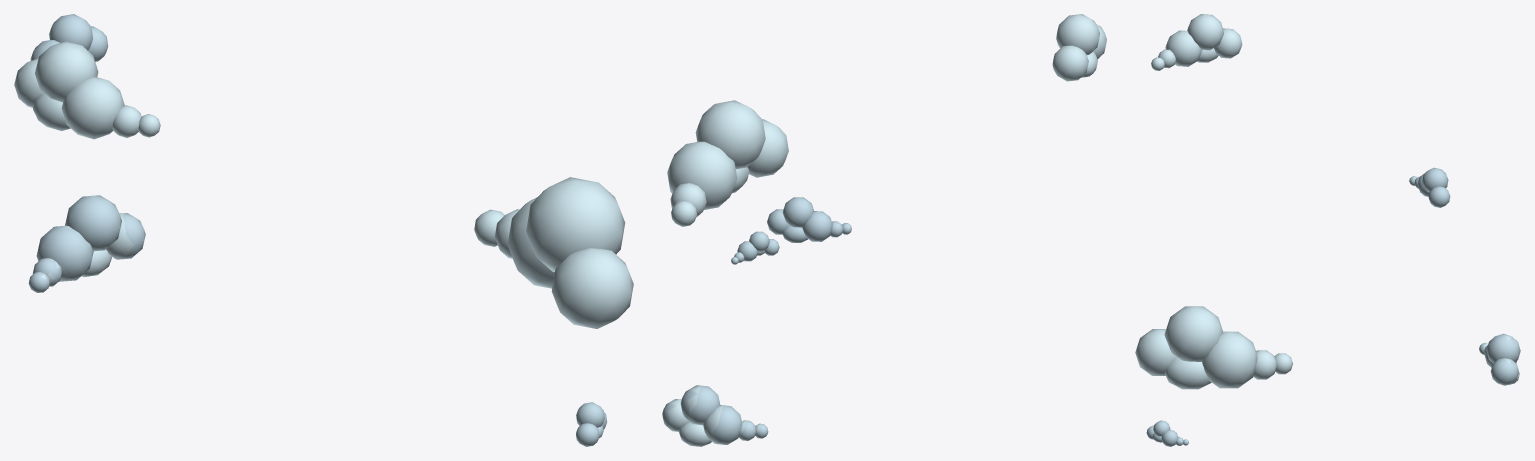
The model's file is CLOUDS.glb.
3 views of the same model, side by side, from view 1: azimuth 30°, elevation 25°; view 2: azimuth 150°, elevation 25°; view 3: azimuth 270°, elevation 25° (orthographic). The views are drawn at different scales.
Visible parts, largest first — view 1: lostisland.299; view 2: lostisland.299; view 3: lostisland.299.
Boxes of the visible parts, x1=… form: lostisland.299: x1=14, y1=14, x2=633, y2=446; lostisland.299: x1=662, y1=14, x2=1106, y2=446; lostisland.299: x1=1135, y1=14, x2=1520, y2=446.
Bounding box in the file's own units: 22.39 × 17.97 × 21.77.
1 material, 1 textured.
